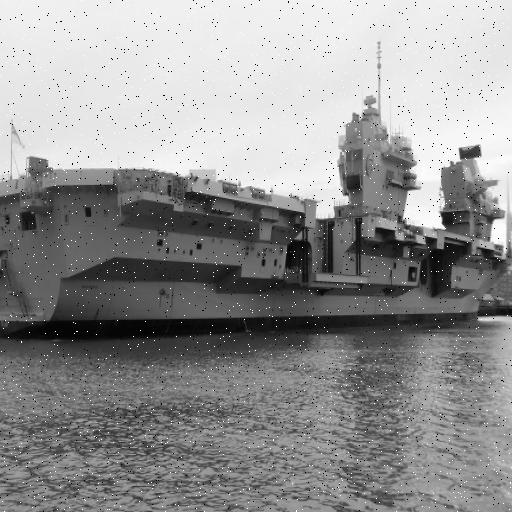Portanaves: (1, 50, 512, 339)
